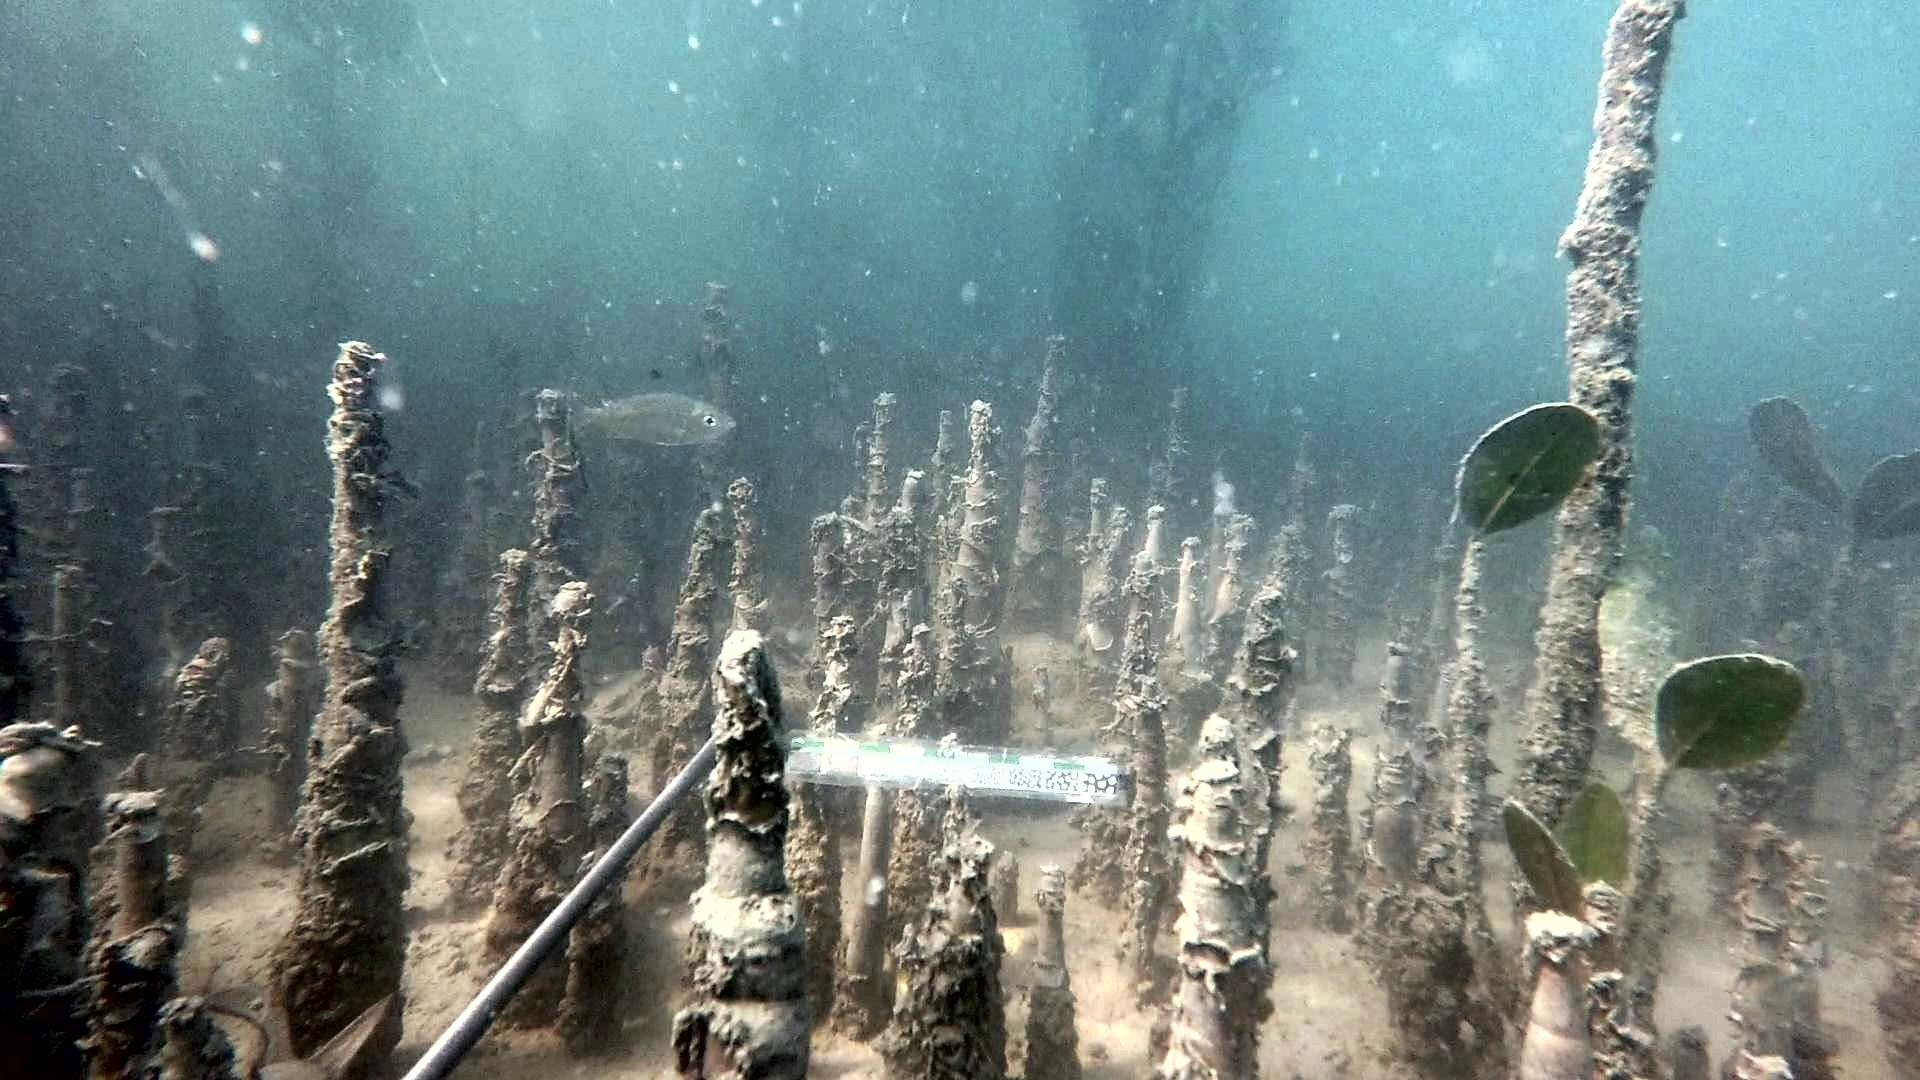gerres: (563, 367, 740, 451)
